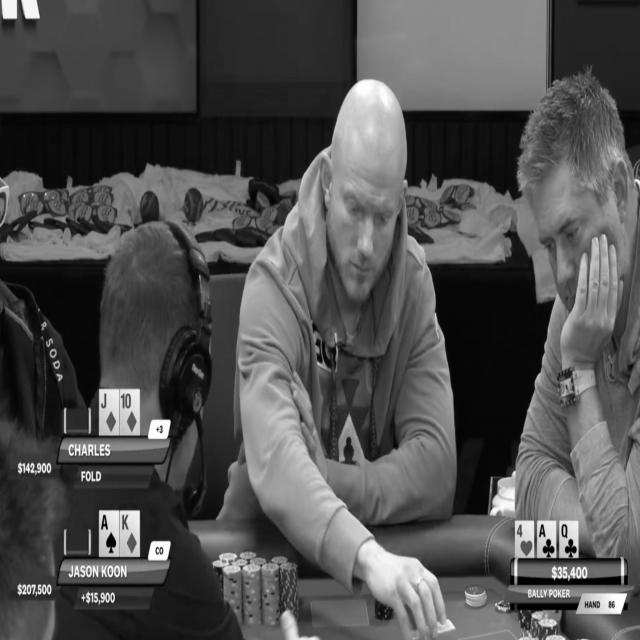10D: (119, 390, 140, 434)
4H: (516, 521, 534, 556)
AC: (538, 521, 556, 559)
AS: (99, 512, 120, 556)
JD: (98, 388, 119, 436)
KD: (120, 511, 140, 555)
QC: (560, 520, 578, 557)
